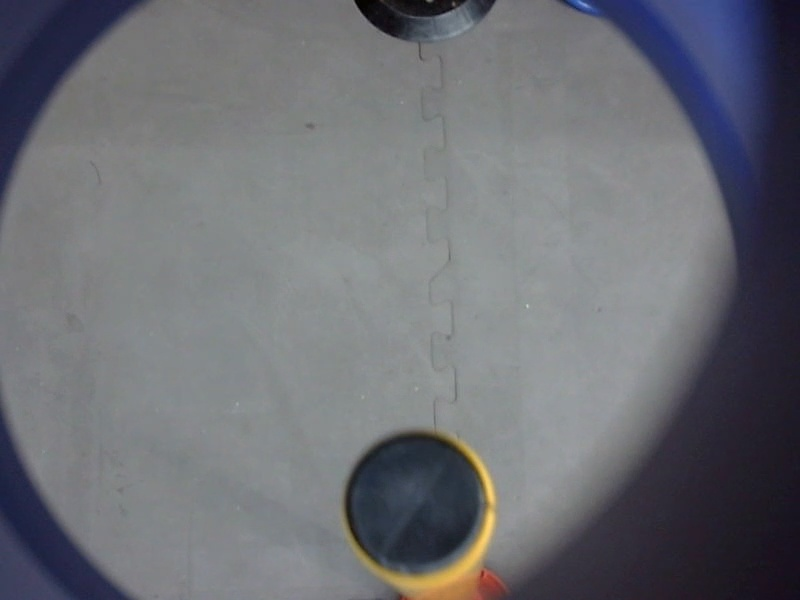tip: (334, 423, 503, 586)
